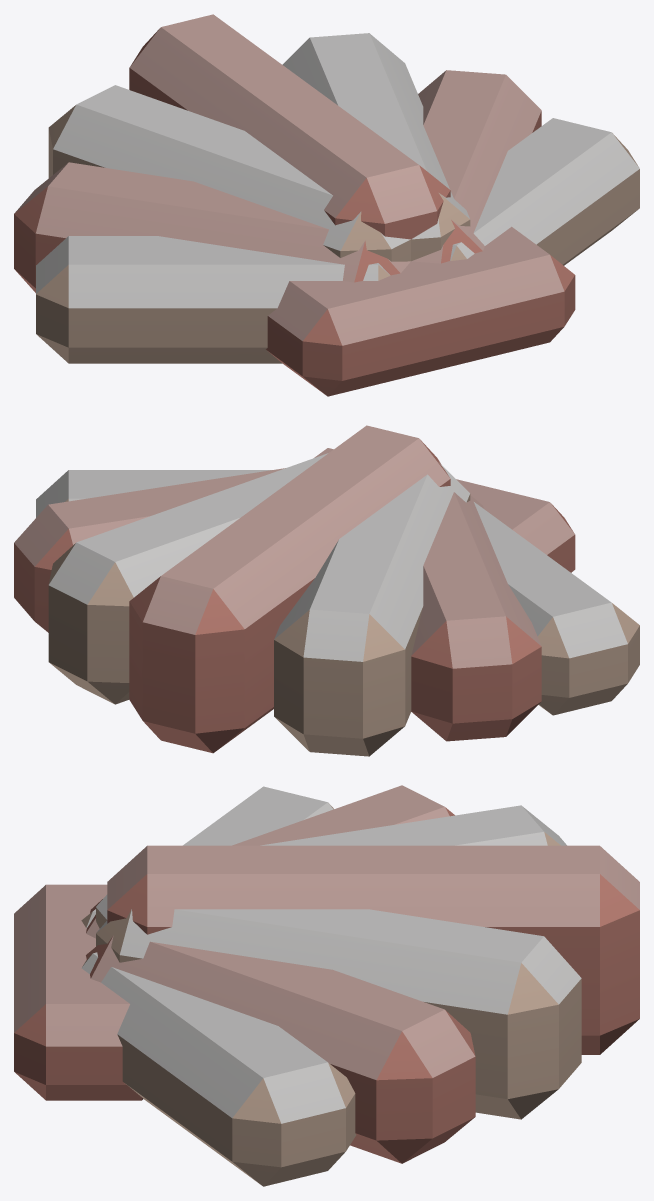
The model's file is scallop-shell.glb.
3 renders of one model, top to bottom at view 1: azimuth 30°, elevation 25°; view 2: azimuth 150°, elevation 25°; view 3: azimuth 270°, elevation 25°, orthographic. The views are drawn at different scales.
Parts seen in each view (by area): view 1: mesh_scallop_shell; view 2: mesh_scallop_shell; view 3: mesh_scallop_shell.
Part boxes in pixels (x1=…): mesh_scallop_shell: x1=14, y1=14, x2=639, y2=396; mesh_scallop_shell: x1=14, y1=425, x2=639, y2=756; mesh_scallop_shell: x1=14, y1=785, x2=639, y2=1186.
Size of the model in its own units: 0.5649 by 0.15 by 0.47.
